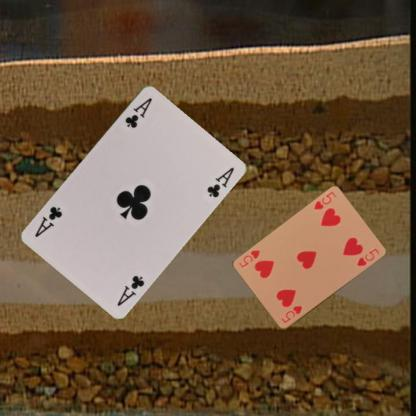5h: (312, 190, 338, 212), (278, 303, 304, 324)
Ac: (114, 272, 146, 308), (122, 95, 154, 129)
